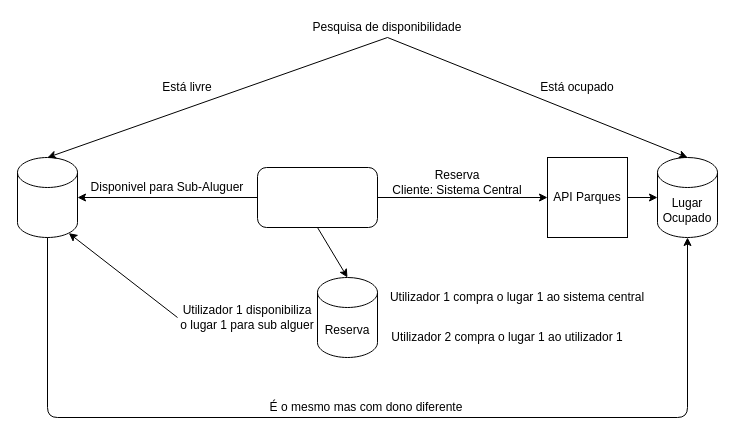
Image size: 735x443. Some labels were removed from this diagram. The box of each missing label's shape, as (x1, y1, x2, y2) in pixels:
Lugar Livre: (16, 156, 78, 238)
Sistema Central Jakim das Coives: (256, 166, 378, 228)
